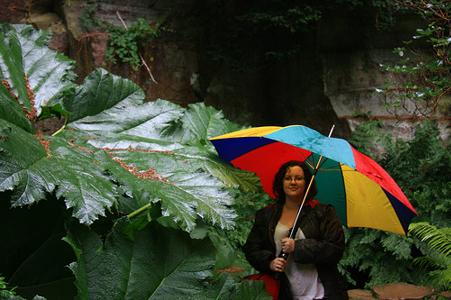person: (243, 160, 350, 300)
